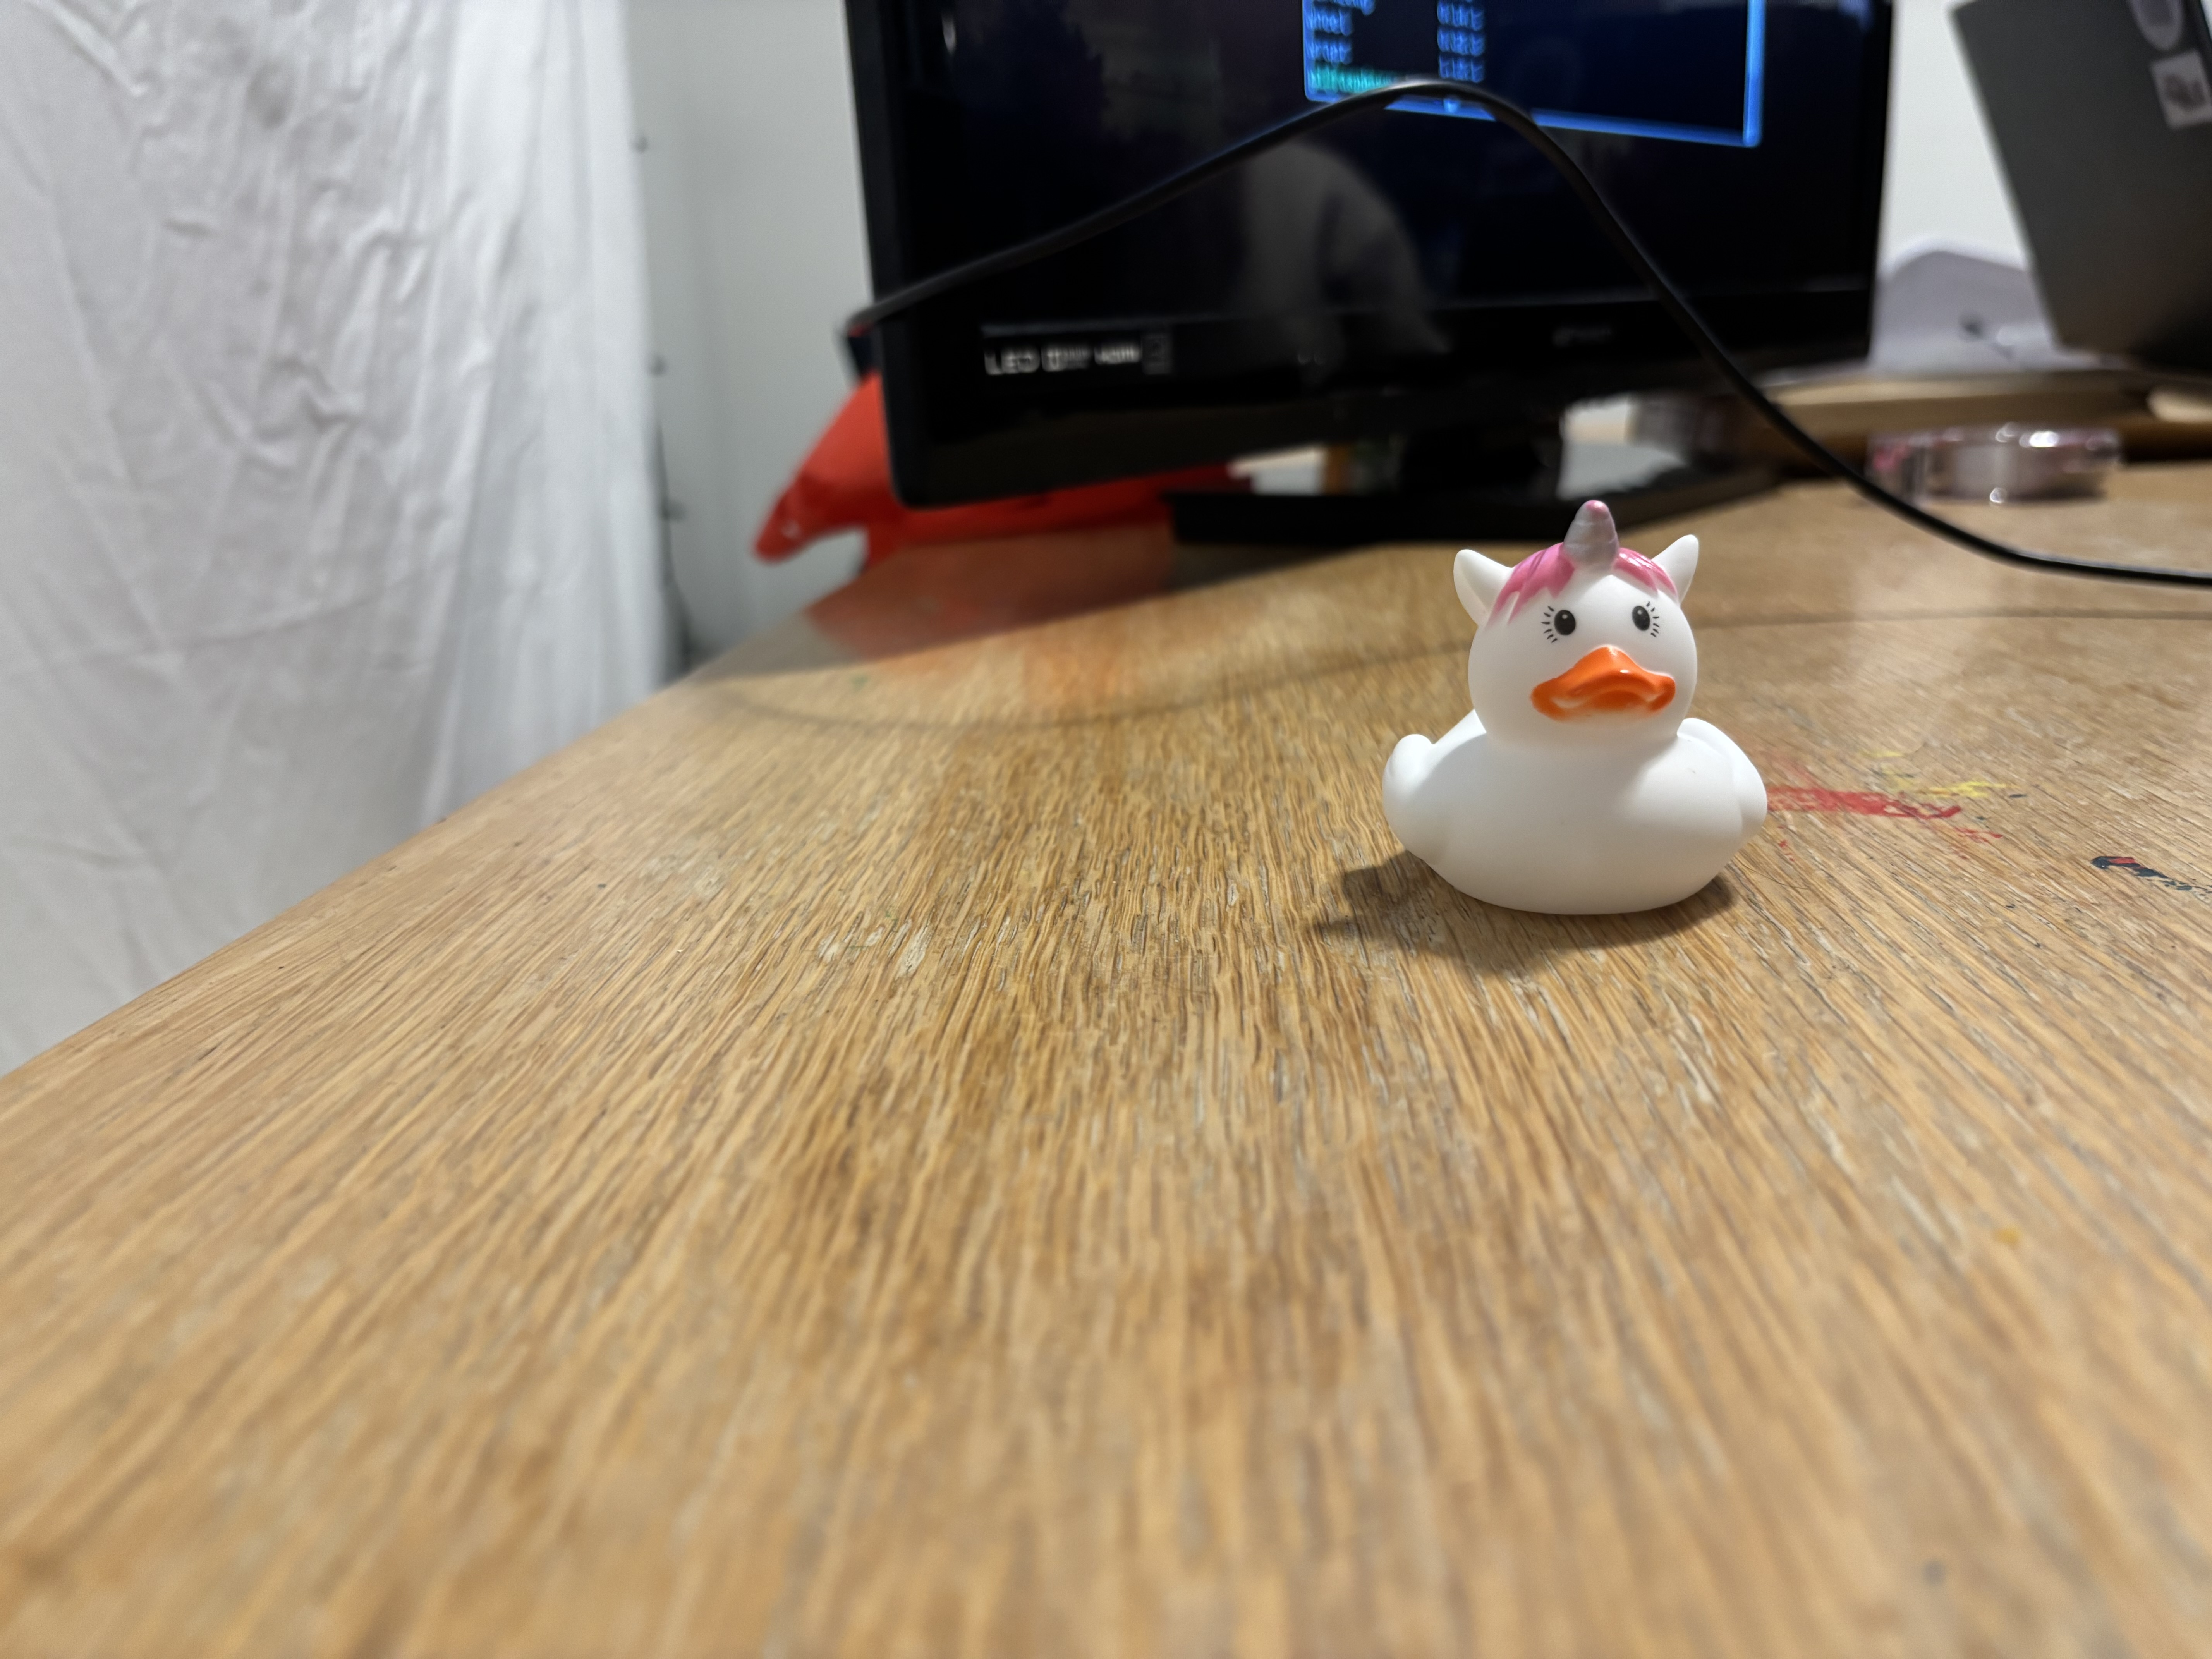Ducks (Specialty): (1364, 505, 1782, 911)
